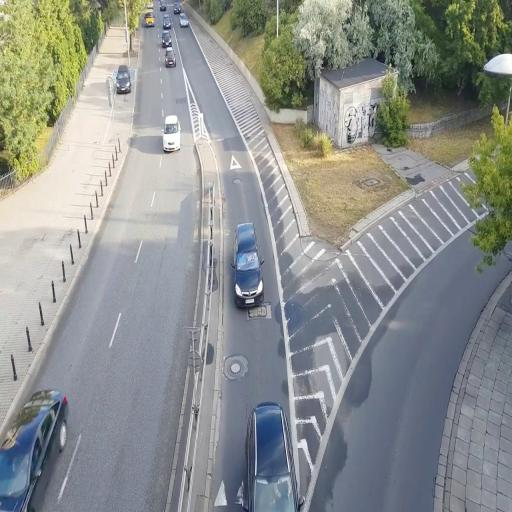vehicle: (0, 389, 69, 511), (244, 399, 297, 512), (162, 115, 182, 152), (114, 66, 132, 93), (164, 48, 176, 68)
